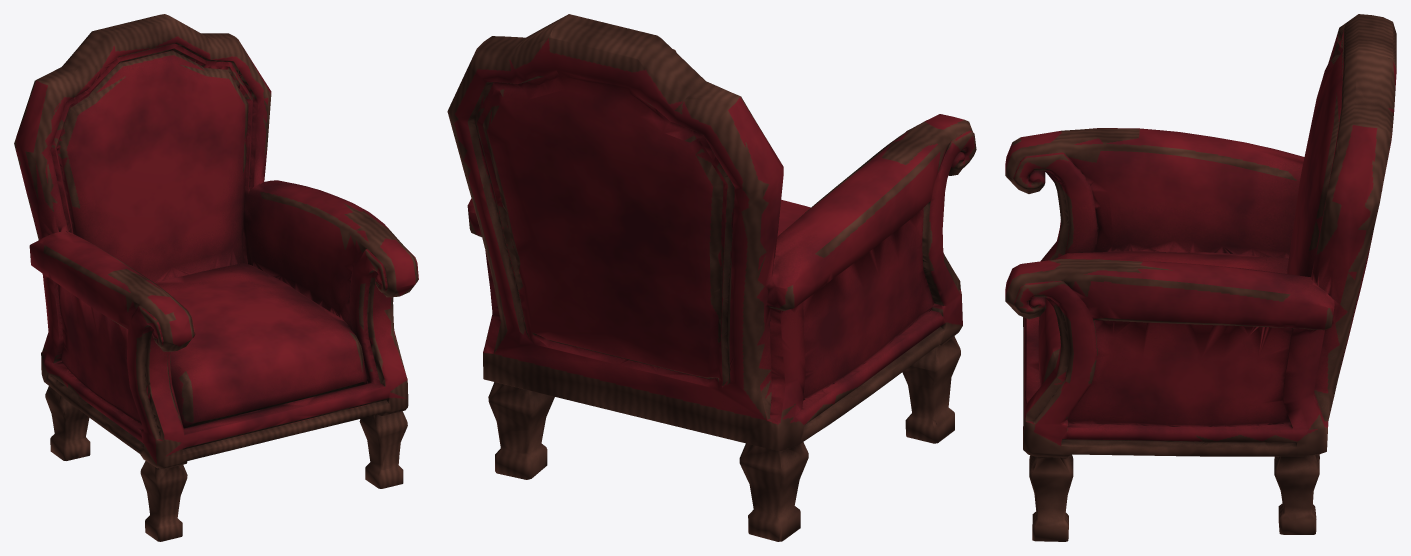
Rendered from Armchair_Roblox.fbx.
The picture shows the model from 3 angles, left to right: view 1: azimuth 30°, elevation 25°; view 2: azimuth 150°, elevation 25°; view 3: azimuth 270°, elevation 25°; orthographic projection. The views are drawn at different scales.
Visible parts, largest first — view 1: Armchair; view 2: Armchair; view 3: Armchair.
Part boxes in pixels (bbox=[...]): Armchair: bbox=[14, 14, 418, 541]; Armchair: bbox=[447, 14, 976, 541]; Armchair: bbox=[1005, 14, 1396, 541].
Bounding box in the file's own units: 0.8208 × 1.1 × 0.8852.
